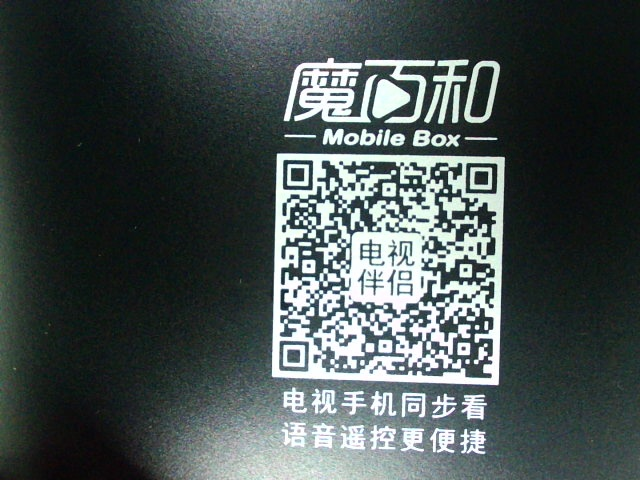AZ_MobileBox: (255, 52, 508, 456)
